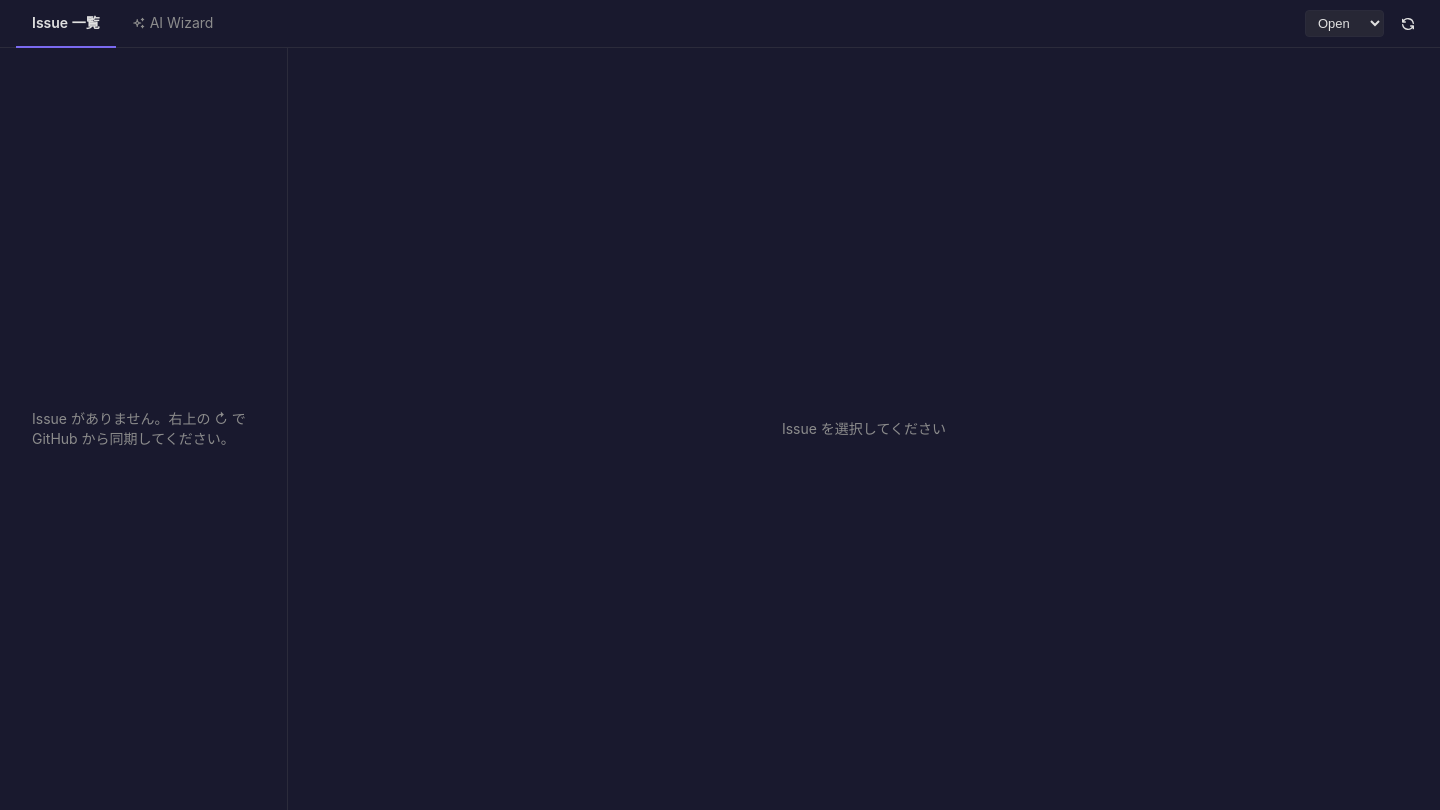
IssuesScreen — AI Wizard タブ › 提出後に Issue 番号が表示される
What coordinates should you click on to do the following:
click the button "AI Wizard"
I would click on:
 (172, 24)
Its box is [116,0,229,48].
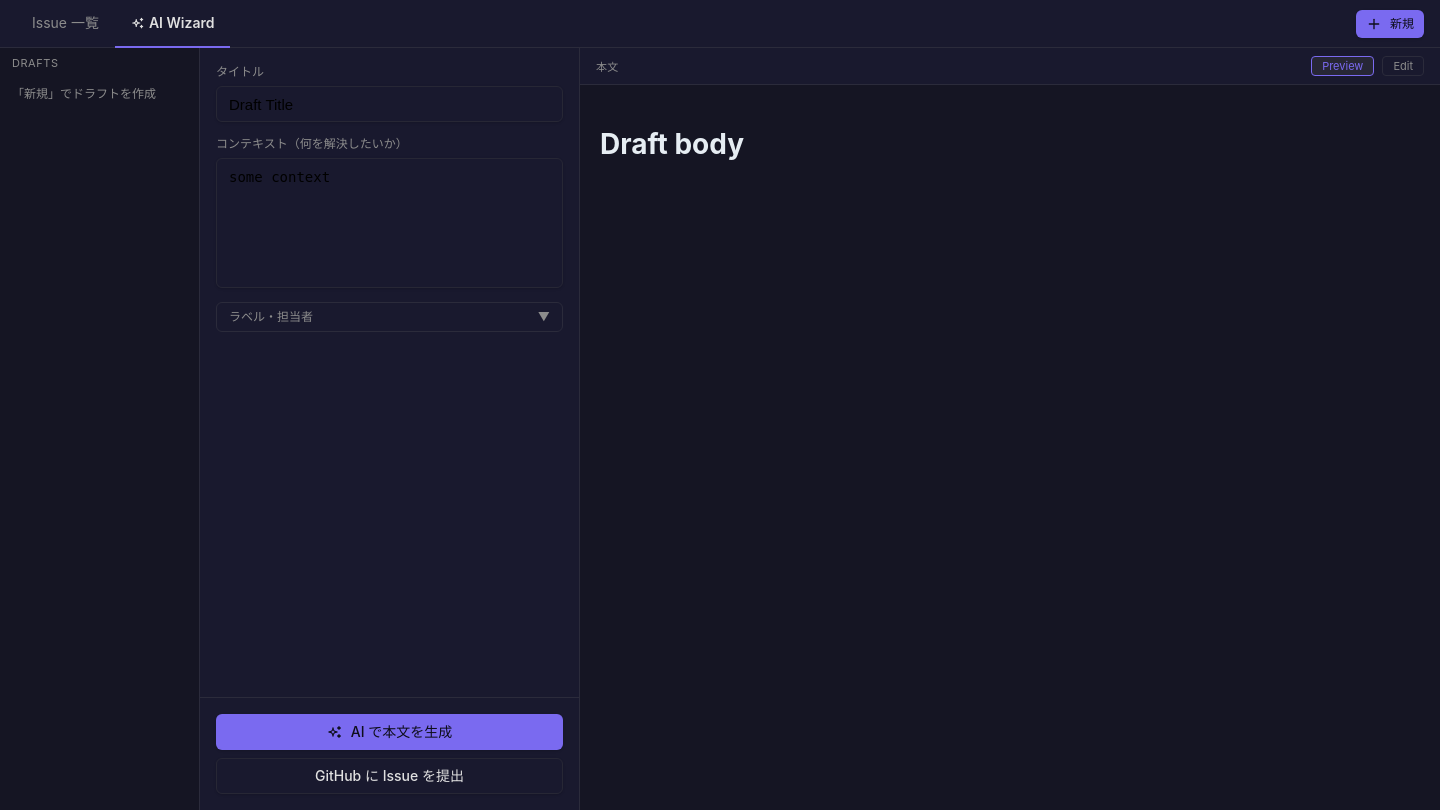
What coordinates should you click on to do the following:
click the button with test id "wizard-file-issue"
I would click on:
 (390, 776)
Its box is [216,758,563,794].
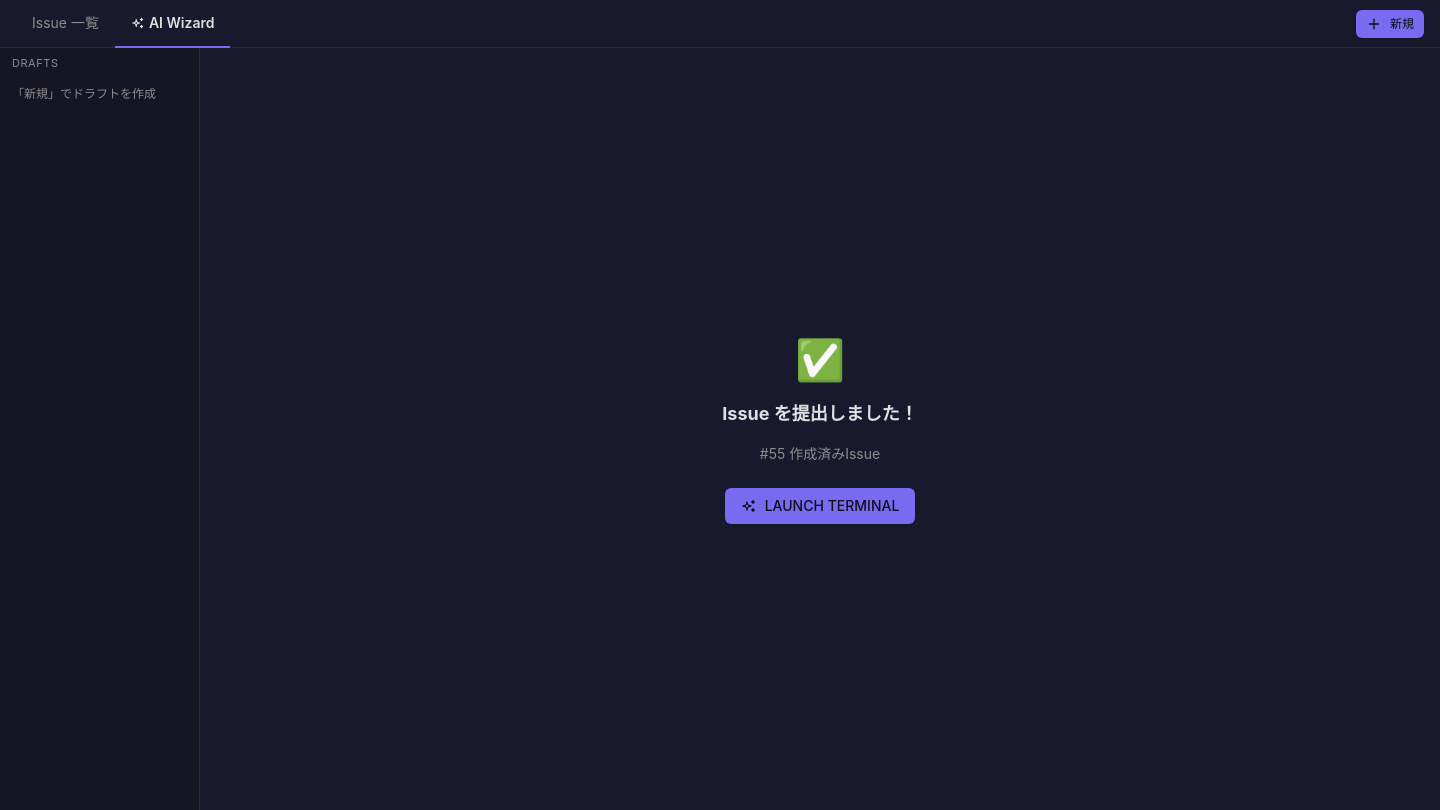
Now the text "#55 作成済みIssue" is shown, box [760,444,880,464]
